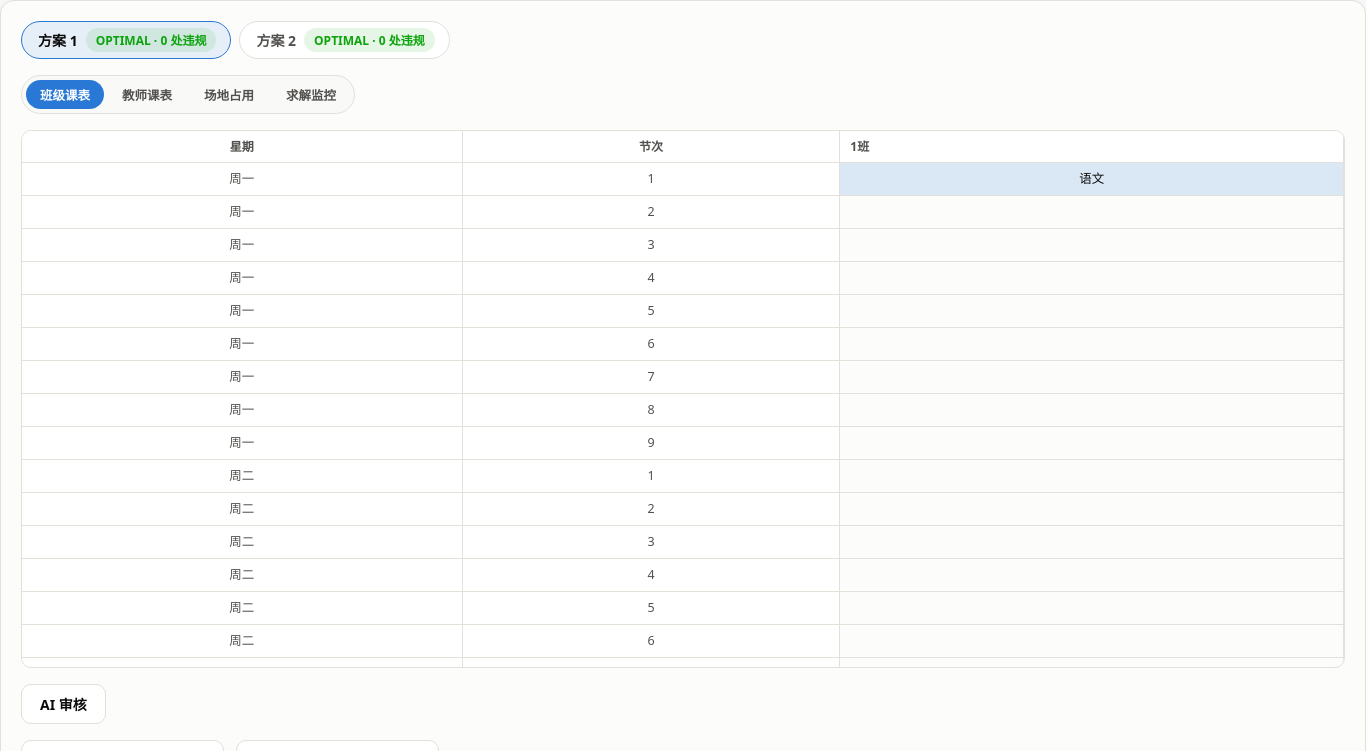
CandidateTabs › renders one tab per candidate and switches the shown grid
This screenshot has width=1366, height=751.
Click the button with test id "candidate-tab" showing "方案 2 OPTIMAL · 0 处违规" at (345, 40), box [239,21,450,59]
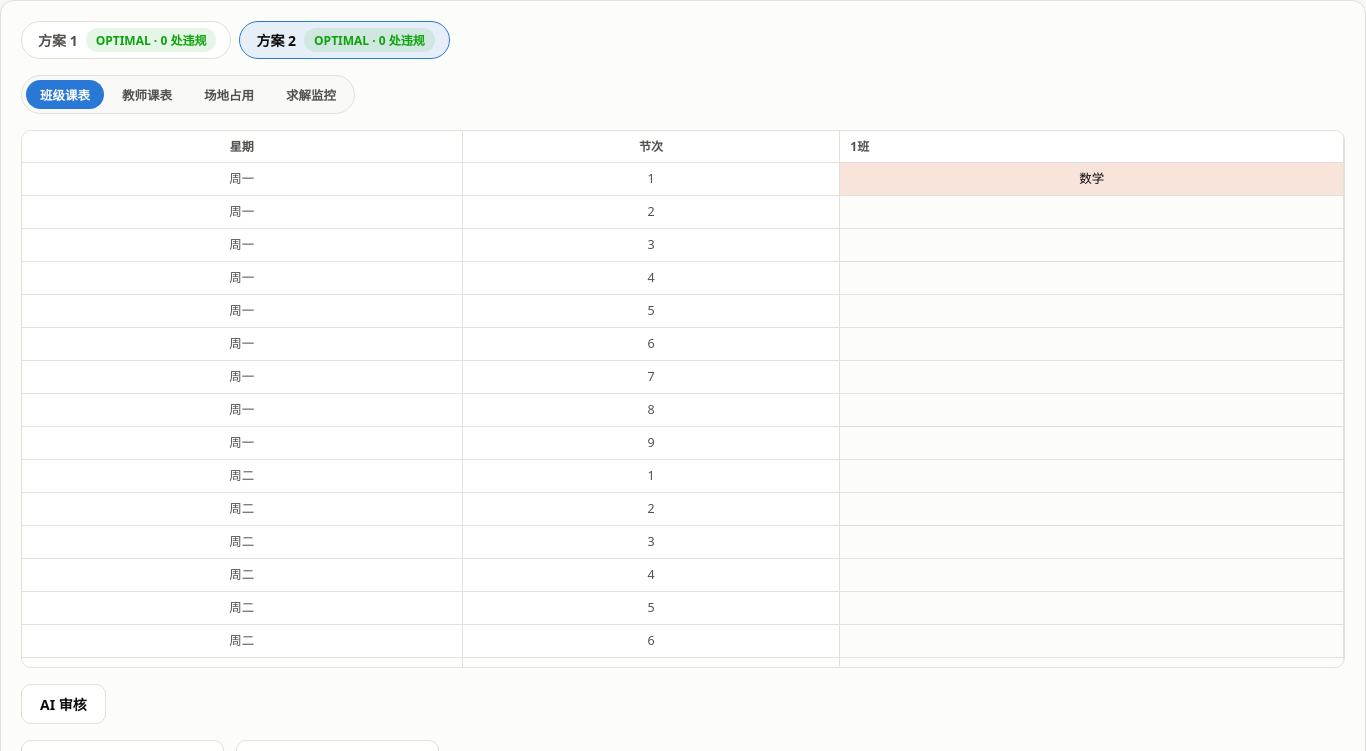
Expected: the text "数学" is shown, [840,163,1344,196]
